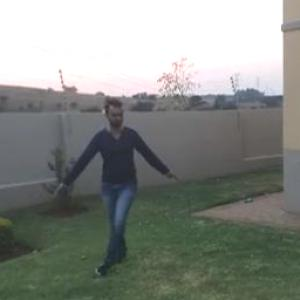land: (47, 84, 173, 287)
